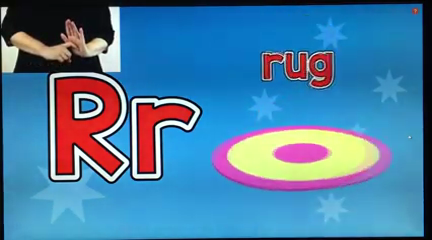R: (38, 12, 99, 68)
